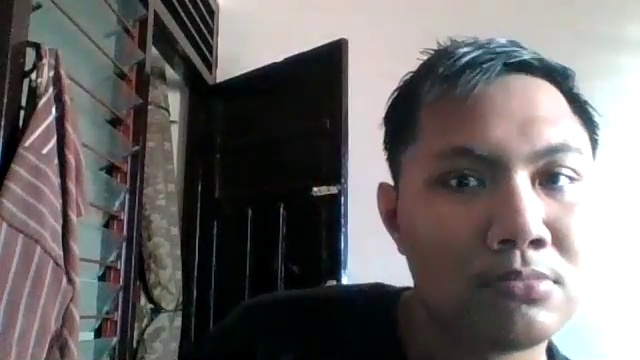Not Distracted: (377, 97, 600, 342)
